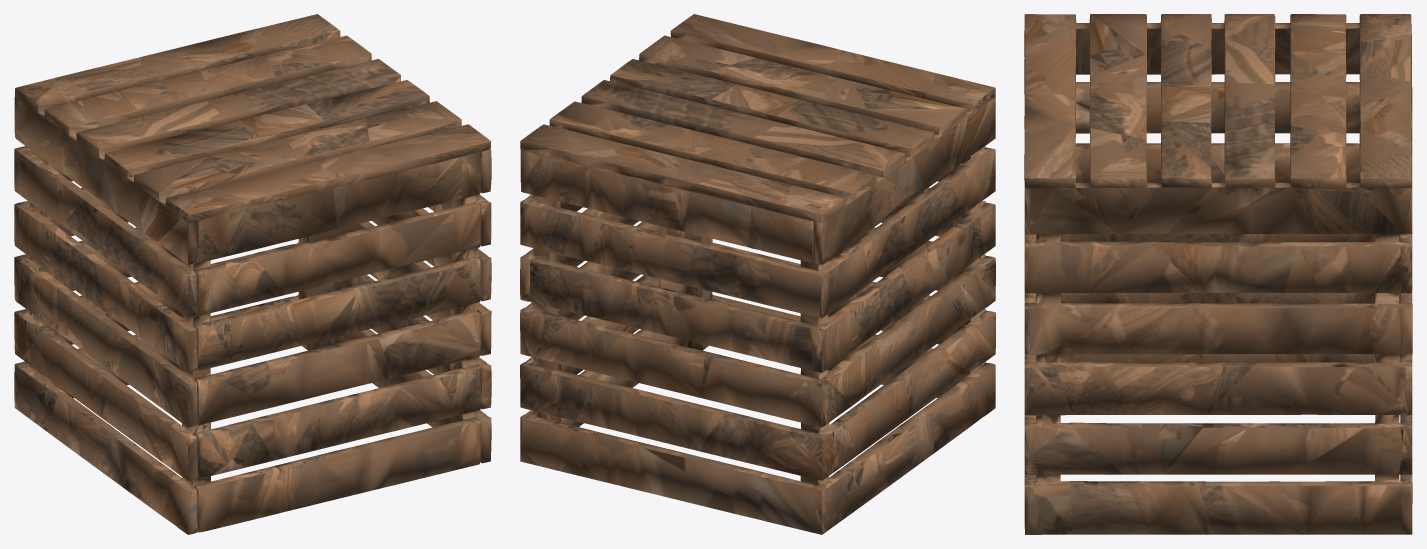
File: SM_WoodenSlatCube_BlenderOptimized.fbx
The picture shows the model from 3 angles, left to right: view 1: azimuth 30°, elevation 25°; view 2: azimuth 150°, elevation 25°; view 3: azimuth 270°, elevation 25°; orthographic projection. The views are drawn at different scales.
Visible parts, largest first — view 1: Mesh_0; view 2: Mesh_0; view 3: Mesh_0.
Part boxes in pixels (box(x1,y1,x2,y2)): Mesh_0: box(14, 14, 491, 534); Mesh_0: box(520, 14, 995, 534); Mesh_0: box(1024, 14, 1412, 534).
Bounding box in the file's own units: 1.88 × 1.9 × 1.87.
